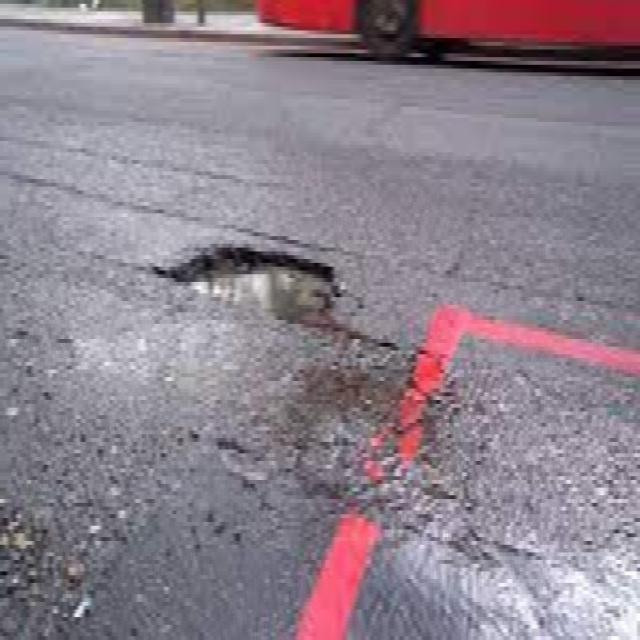Pothole: (148, 240, 344, 340)
